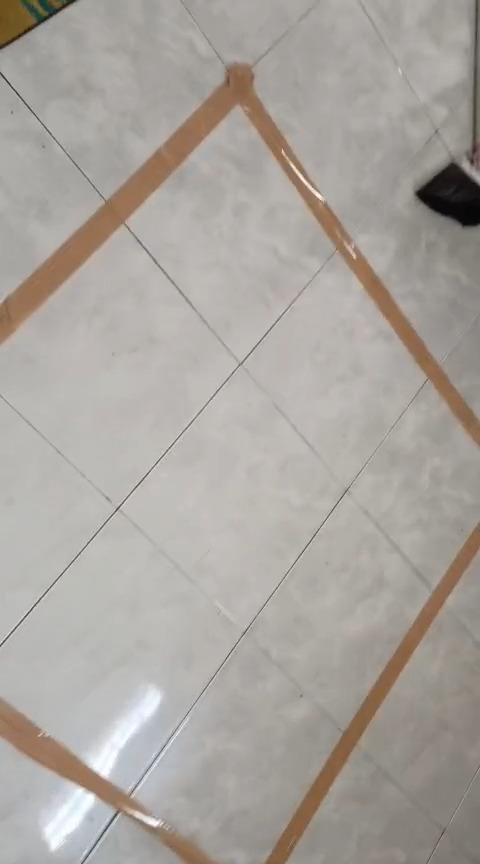floor marking: (0, 65, 479, 443), (264, 525, 479, 863), (0, 703, 215, 863)
